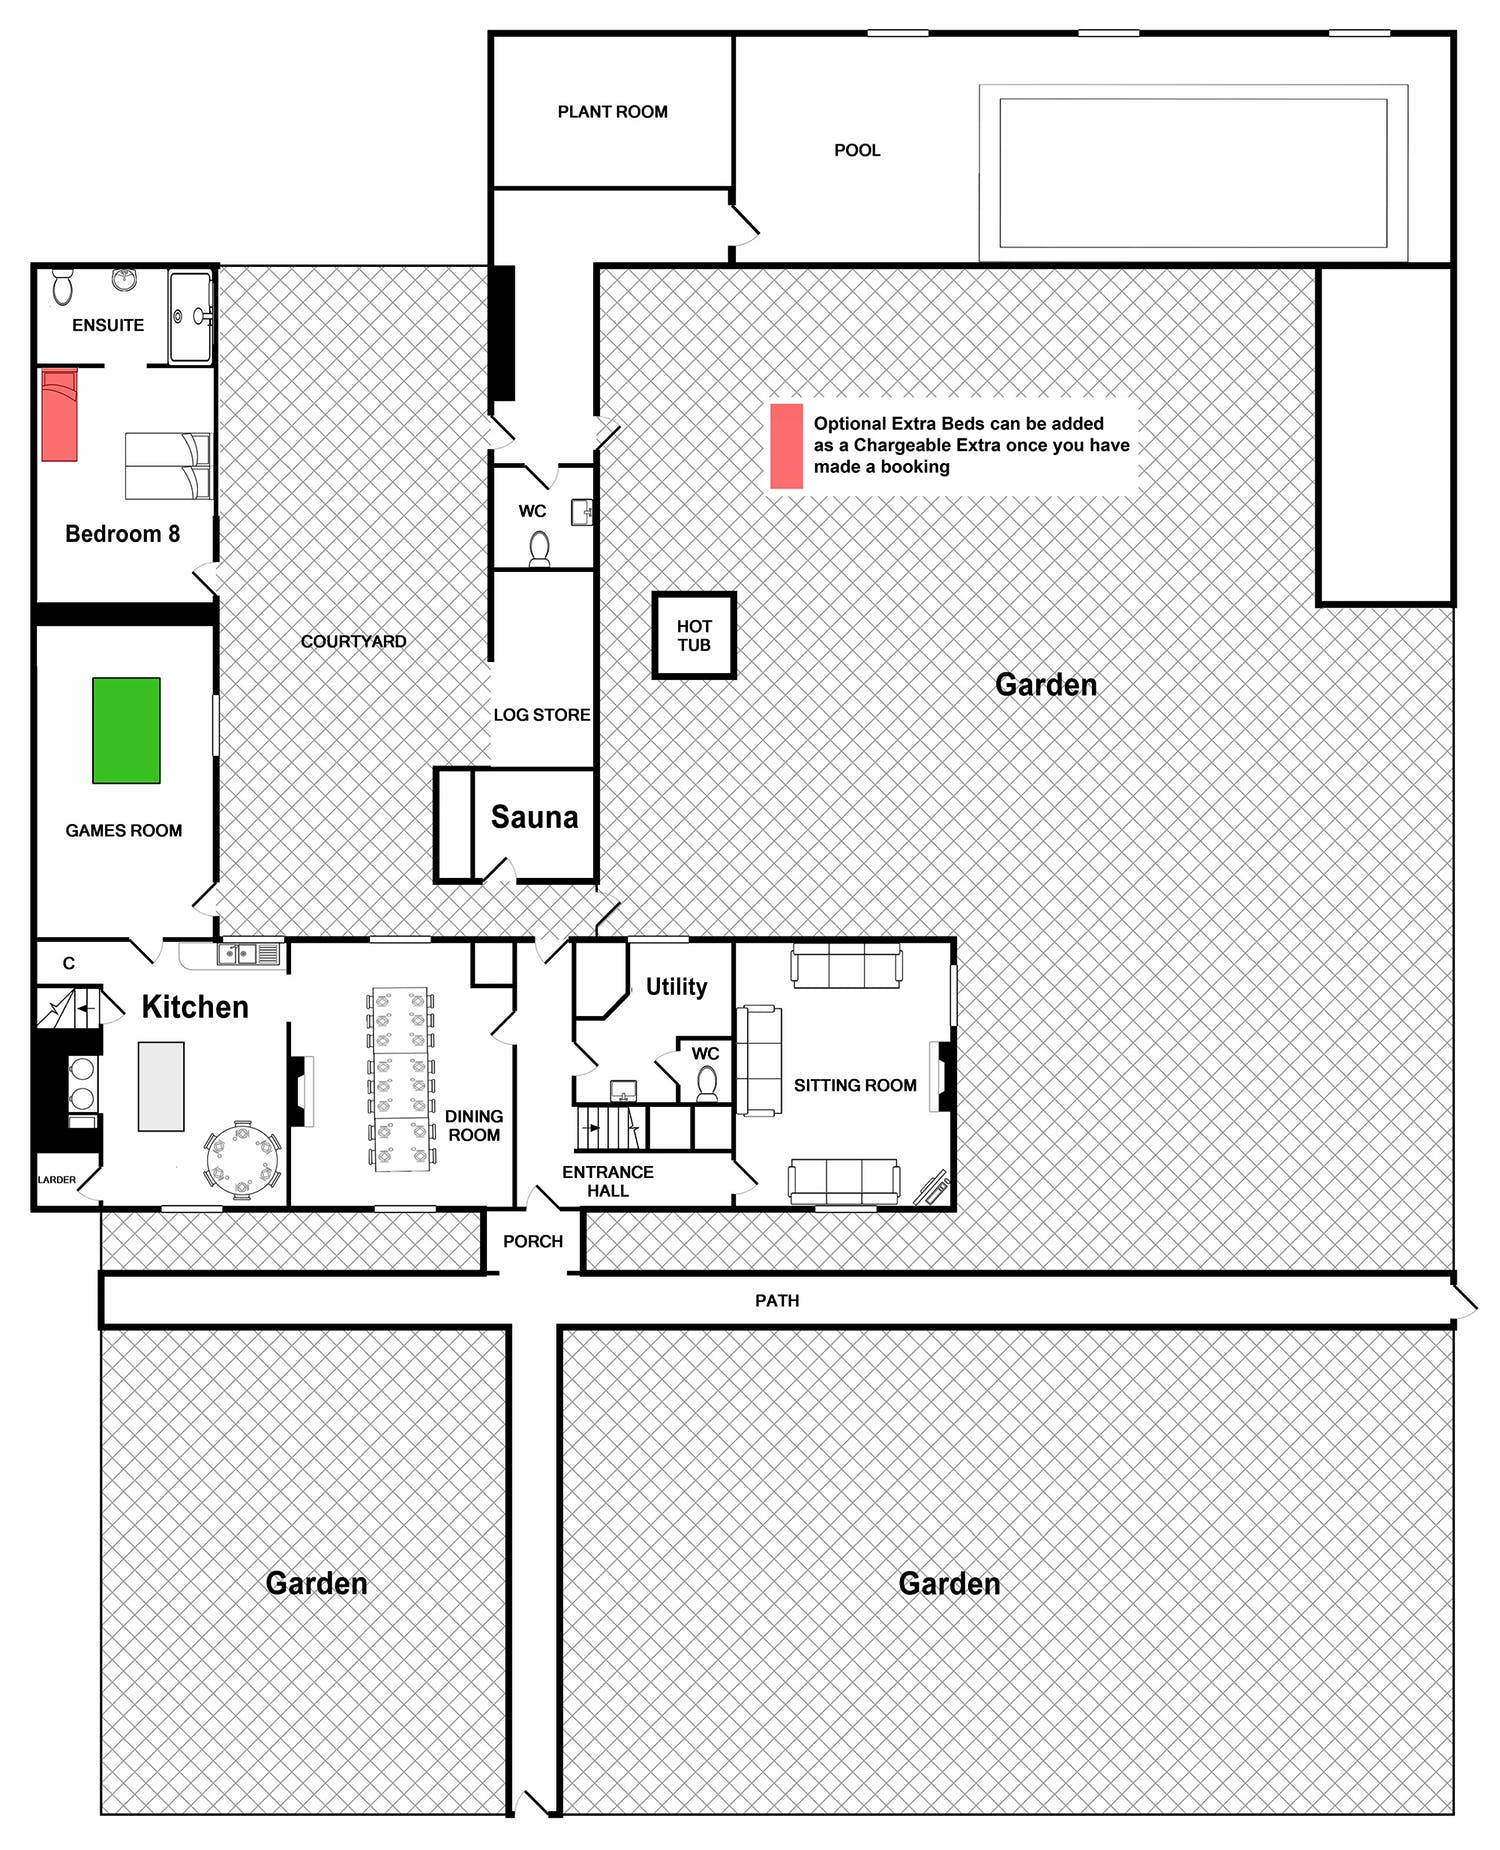door: (729, 200, 765, 245), (487, 1013, 520, 1045), (566, 1044, 600, 1076), (589, 892, 623, 924), (589, 416, 623, 448), (132, 936, 164, 969), (647, 1051, 680, 1083), (527, 1184, 559, 1217), (534, 935, 566, 967), (484, 855, 516, 888), (191, 881, 223, 914), (188, 562, 220, 594), (484, 415, 516, 447), (527, 458, 559, 490)
